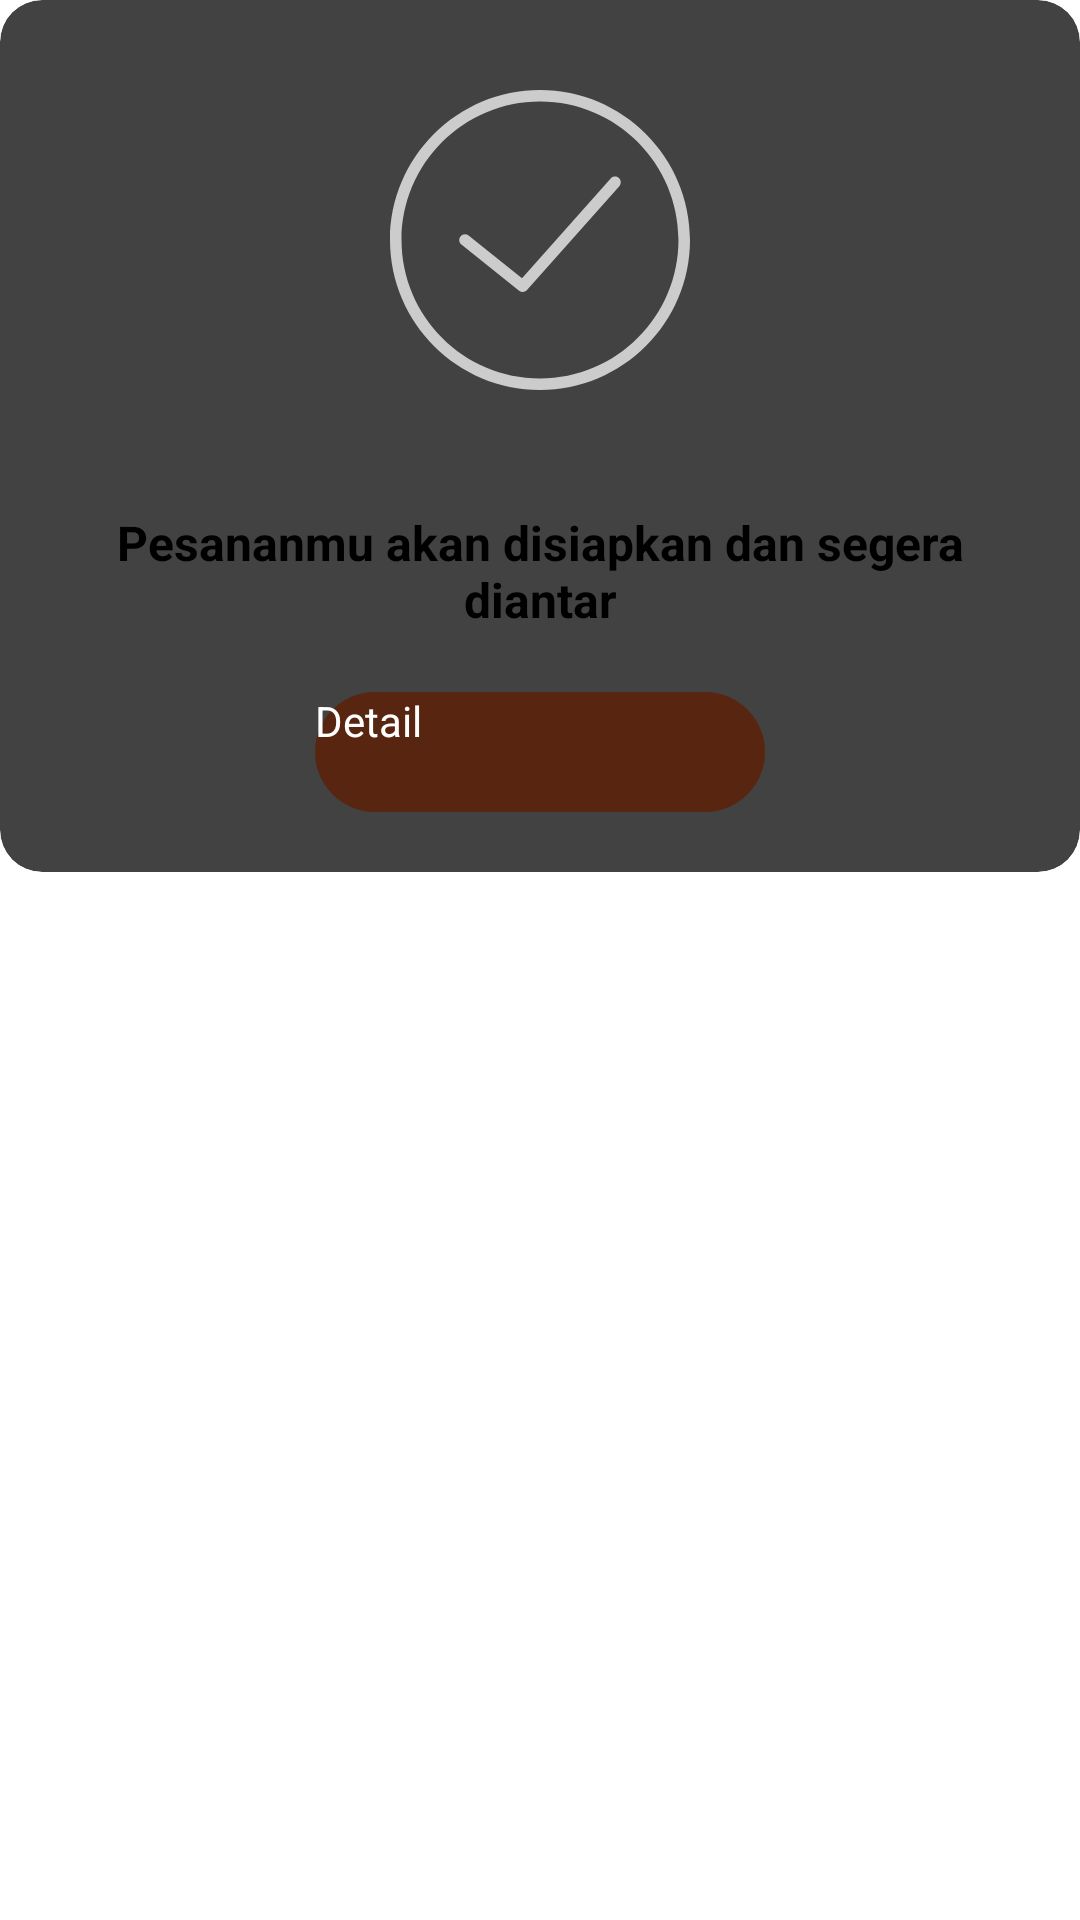

Named icons in this screenshot (1080*1920) and their centers, point (x, y):
success: point (540, 240)
